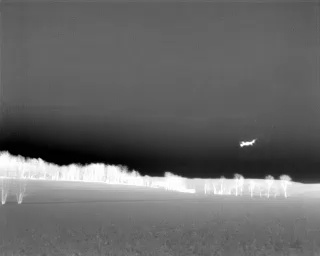DRONE: (236, 134, 261, 153)
